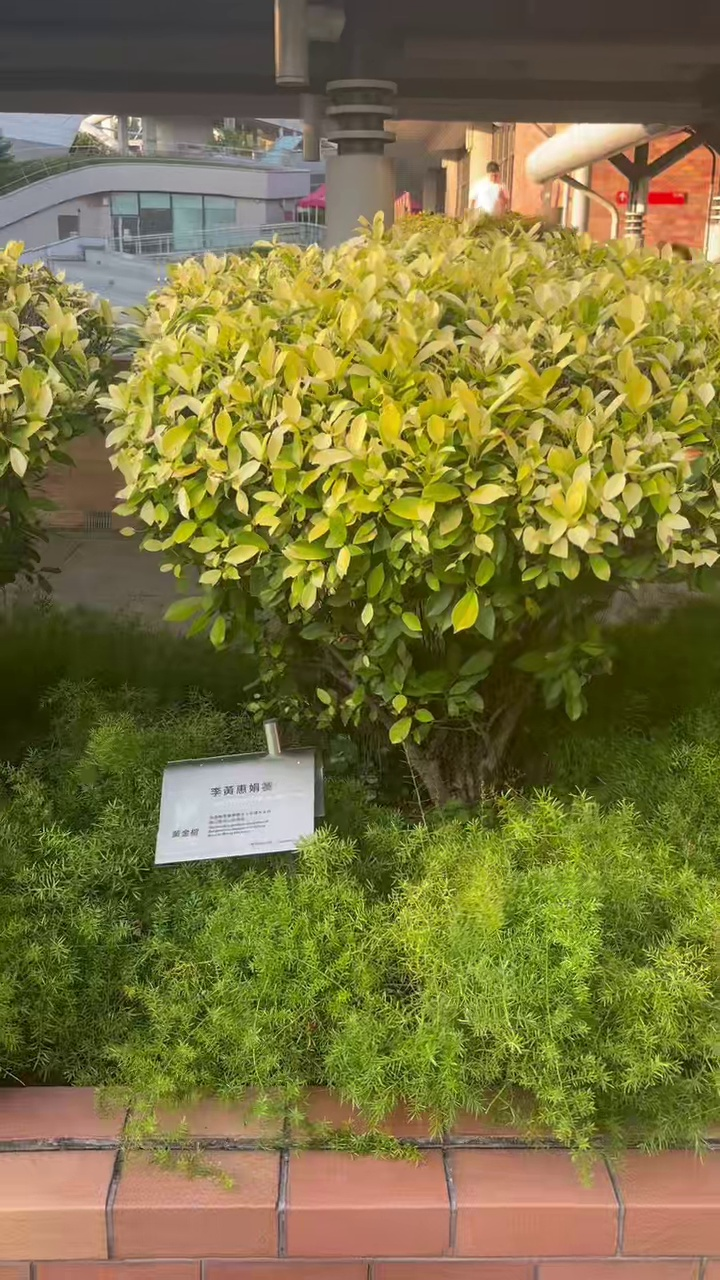Golden-leaves Fig: (102, 215, 719, 800)
